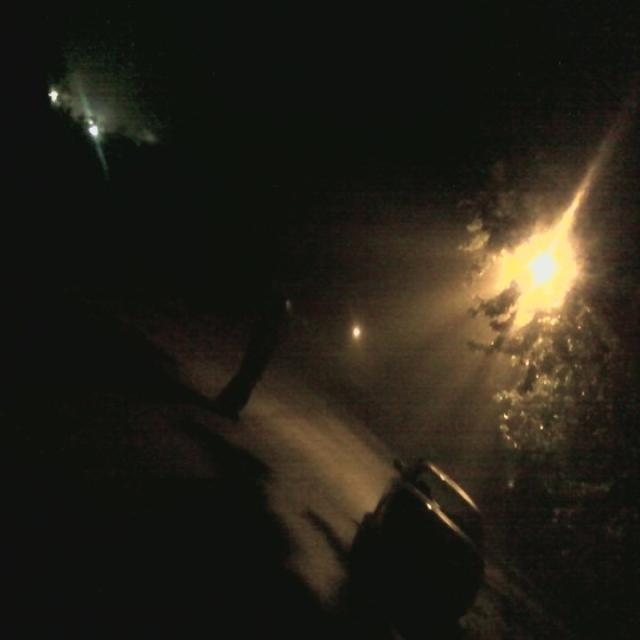Car: (356, 441, 486, 610)
